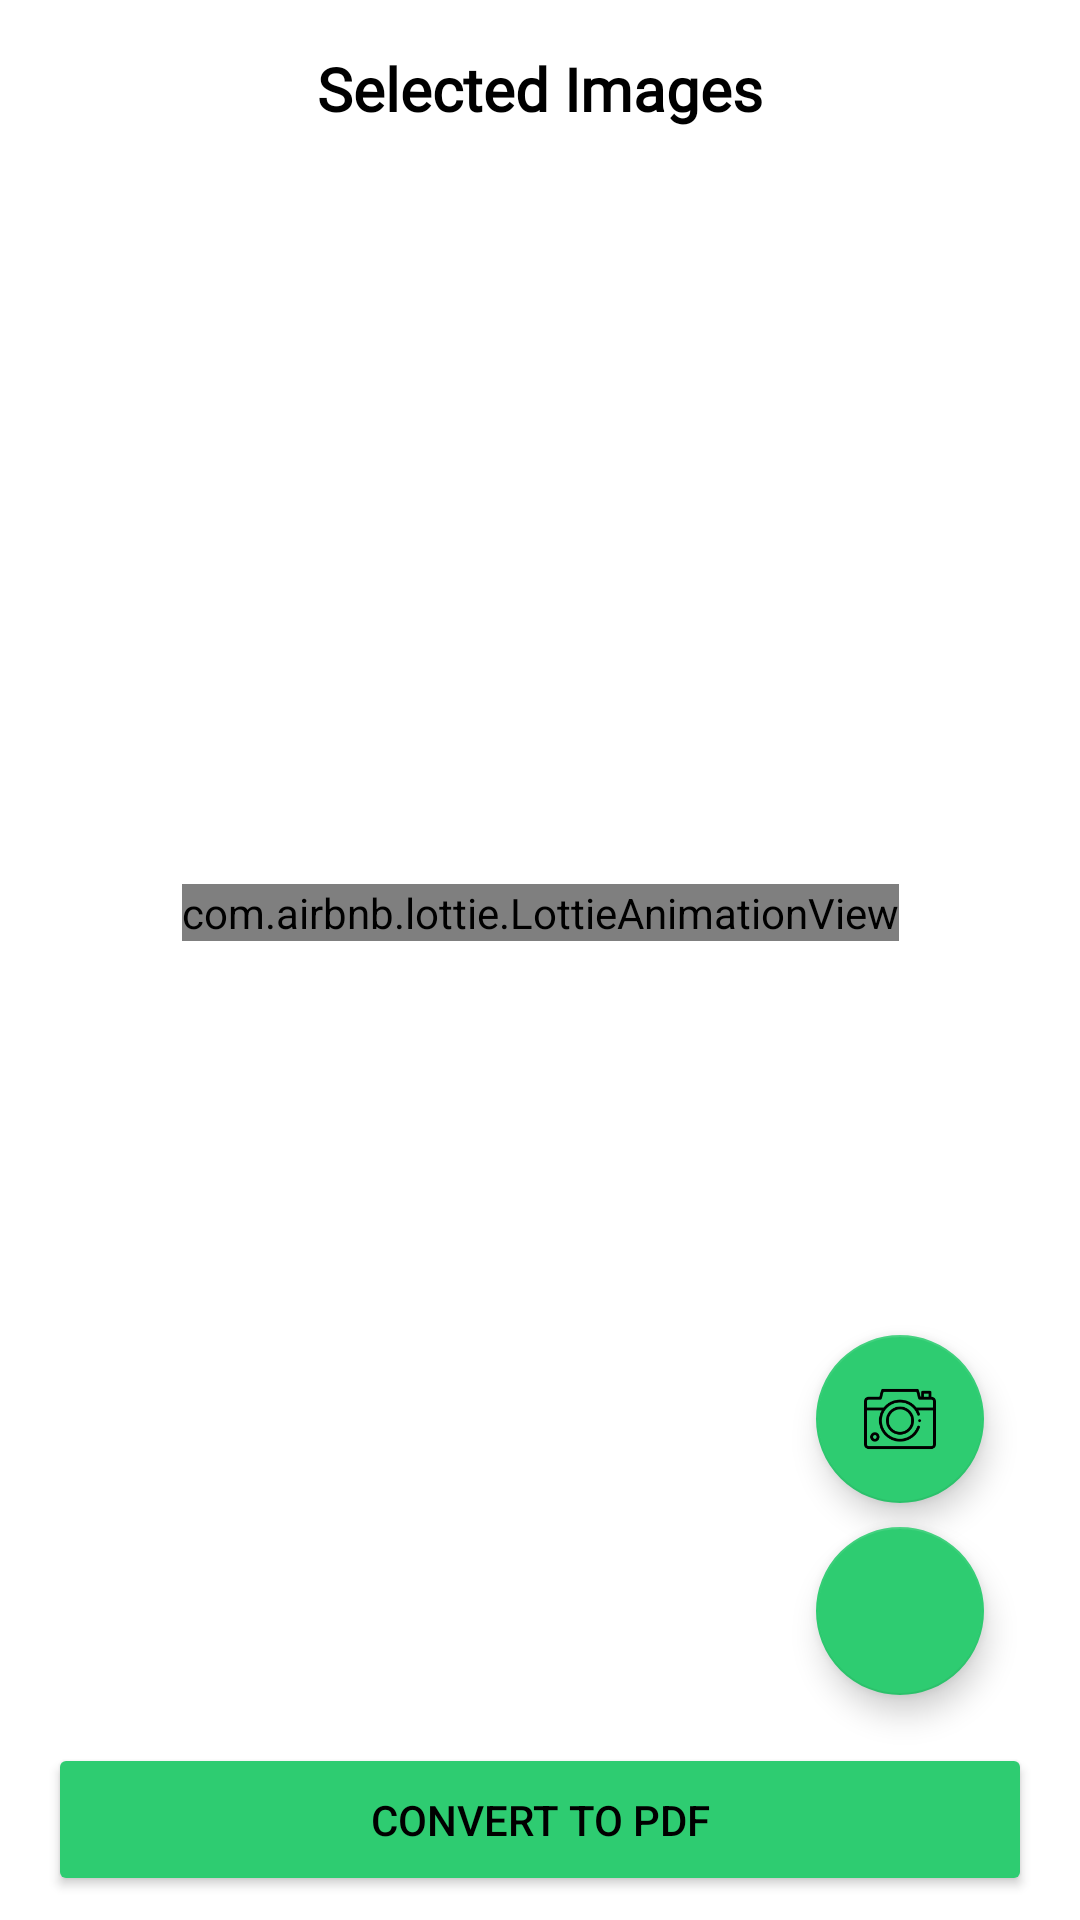

Screen size 1080 × 1920. Icon name, then its box in pixels as (x1, y1, x2, y2):
camera: (816, 1335, 984, 1503)
